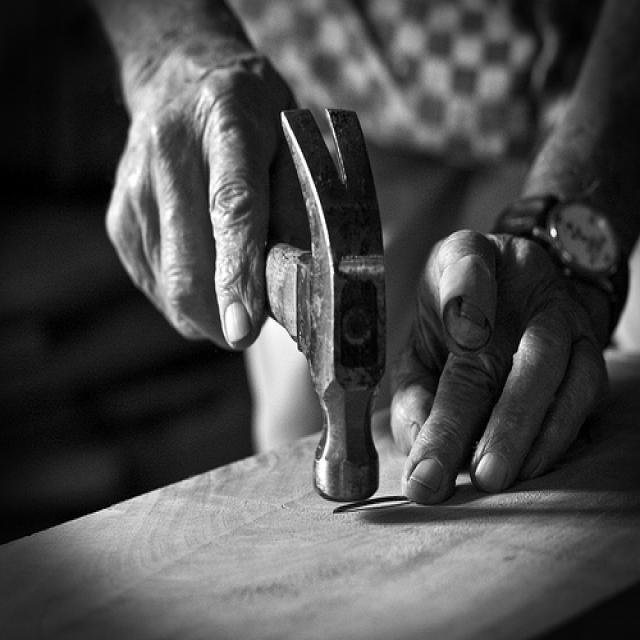hammer: (150, 95, 398, 510)
